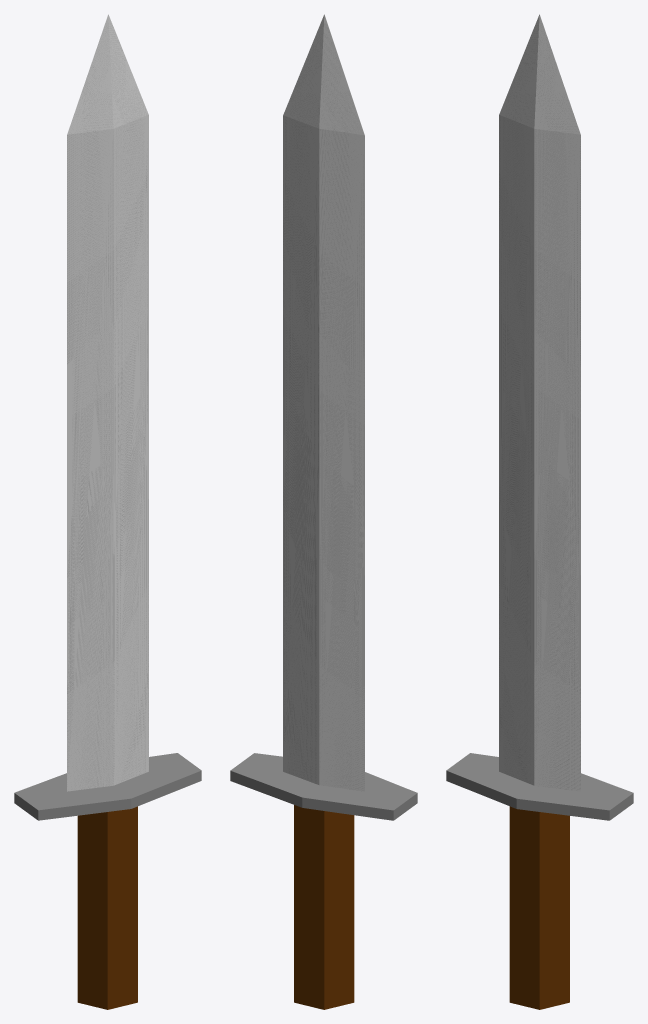
Rendered from IronSwprd.dae.
The picture shows the model from 3 angles, left to right: view 1: azimuth 30°, elevation 25°; view 2: azimuth 150°, elevation 25°; view 3: azimuth 330°, elevation 25°; orthographic projection.
Parts seen in each view (by area): view 1: SketchUp (×3); view 2: SketchUp (×3); view 3: SketchUp (×3).
Boxes of the visible parts, box(x1,y1,x2,y2) form: SketchUp (×3): box(14, 14, 201, 1009); SketchUp (×3): box(230, 14, 417, 1009); SketchUp (×3): box(446, 14, 633, 1009).
Bounding box in the file's own units: 55.97 × 26.59 × 321.
